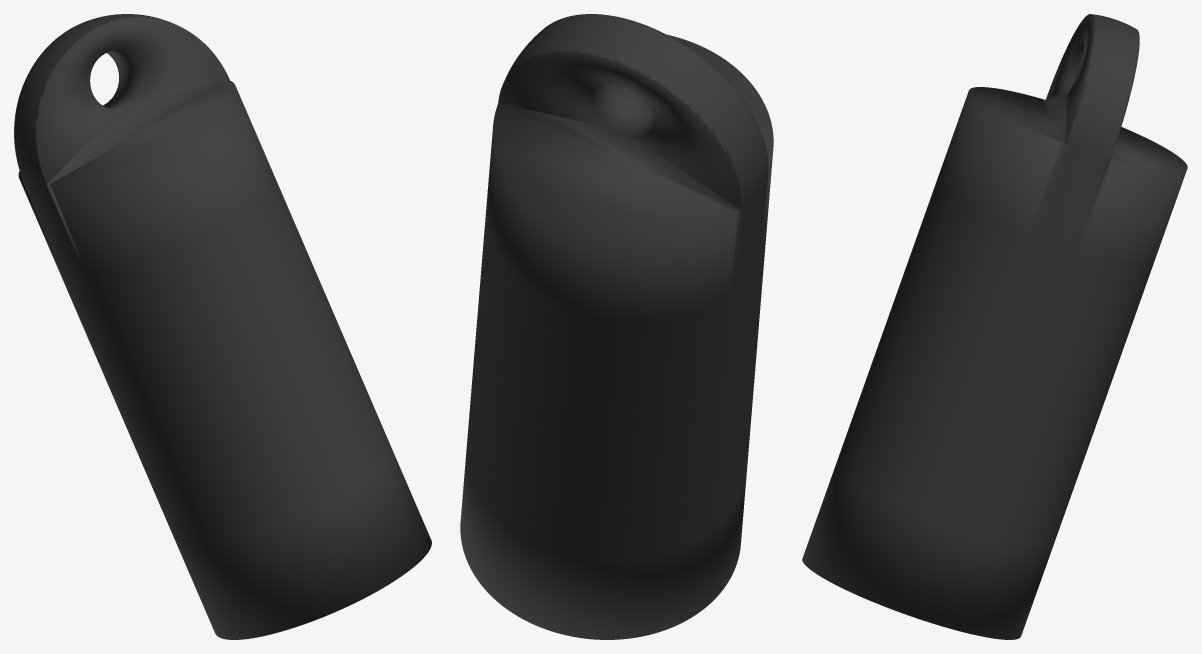
File: chwytak4_L.obj
3 views of the same model, side by side, from view 1: azimuth 30°, elevation 25°; view 2: azimuth 150°, elevation 25°; view 3: azimuth 270°, elevation 25° (orthographic). The views are drawn at different scales.
Visible parts, largest first — view 1: pompa_L; view 2: pompa_L; view 3: pompa_L.
Part boxes in pixels (x1,y1,x2,y2): pompa_L: (14, 14, 431, 639); pompa_L: (460, 14, 773, 639); pompa_L: (802, 14, 1187, 639).
Bounding box in the file's own units: 0.4911 × 0.8574 × 0.5326.
Materials: 1 (1 with a texture image).
